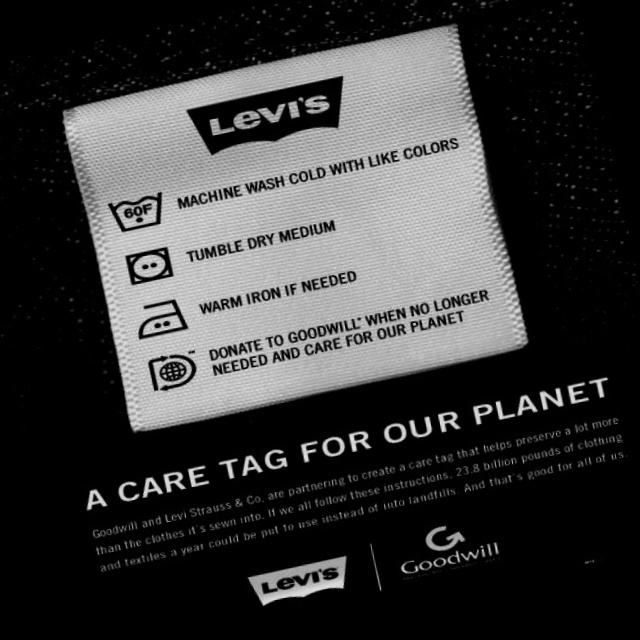30C: (104, 182, 173, 240)
iron_medium: (128, 291, 195, 346)
tumble_dry_medium: (119, 242, 181, 292)
